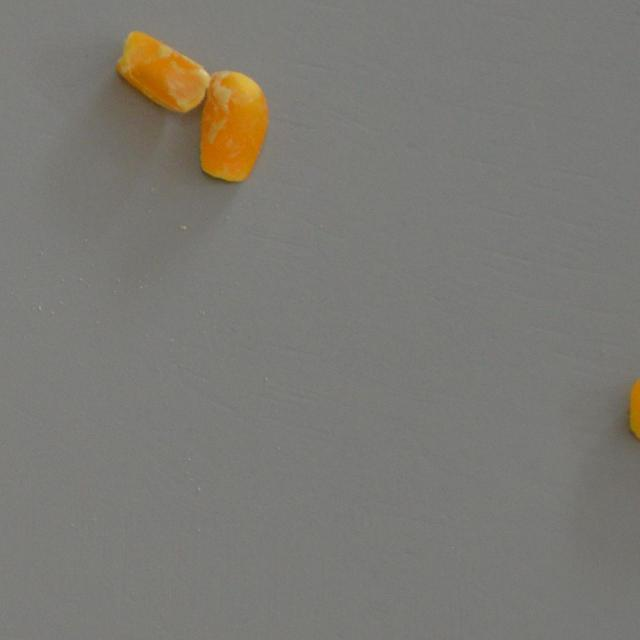pelicula: (112, 28, 208, 114), (198, 68, 268, 184), (626, 366, 640, 442)
